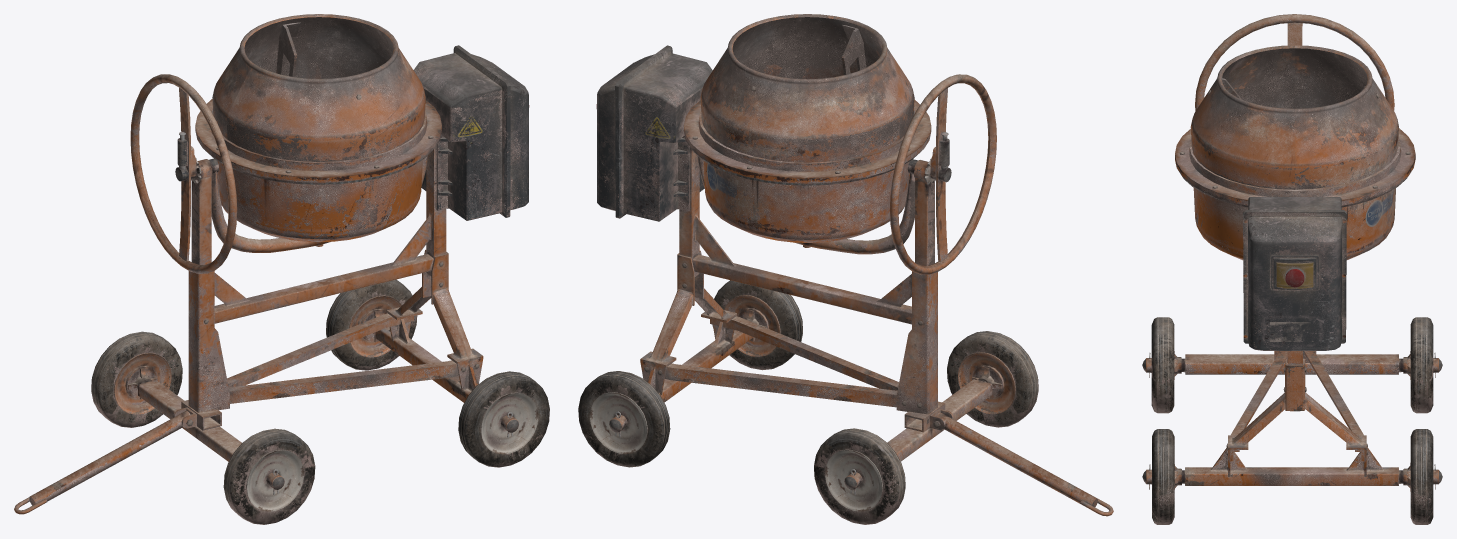
Rendered from SM_ConcreteMixer_01a.FBX.
3 renders of one model, left to right at view 1: azimuth 30°, elevation 25°; view 2: azimuth 150°, elevation 25°; view 3: azimuth 270°, elevation 25°, orthographic. The views are drawn at different scales.
Visible parts, largest first — view 1: SM_ConcreteMixer_01a_SM_ConcreteMixer_01a_LOD0; view 2: SM_ConcreteMixer_01a_SM_ConcreteMixer_01a_LOD0; view 3: SM_ConcreteMixer_01a_SM_ConcreteMixer_01a_LOD0.
Boxes of the visible parts, x1,y1,x2,y2 form: SM_ConcreteMixer_01a_SM_ConcreteMixer_01a_LOD0: [14, 14, 549, 524]; SM_ConcreteMixer_01a_SM_ConcreteMixer_01a_LOD0: [578, 14, 1113, 524]; SM_ConcreteMixer_01a_SM_ConcreteMixer_01a_LOD0: [1142, 14, 1442, 524].
Size of what is drawn, in the model's own units: 184 by 136 by 95.88.
